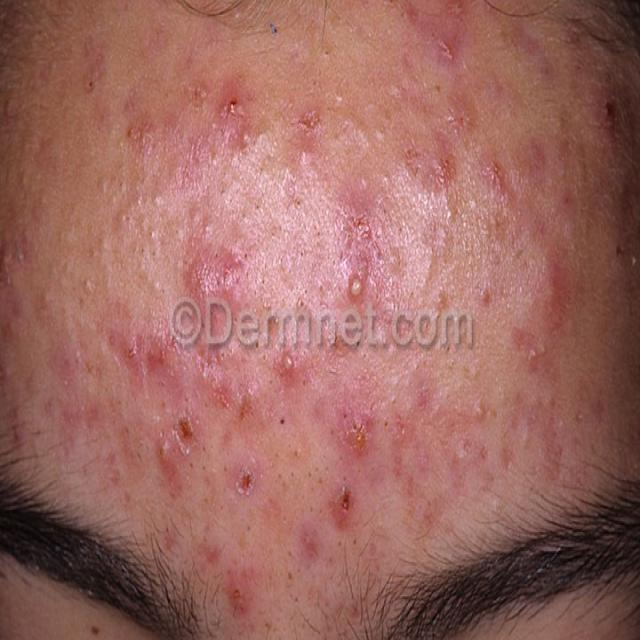Acne: (186, 245, 242, 300), (339, 191, 375, 263), (125, 110, 158, 160), (82, 34, 107, 96), (425, 142, 457, 188), (345, 412, 374, 458), (331, 479, 355, 528), (432, 31, 460, 70), (228, 569, 251, 616), (233, 462, 258, 499), (298, 522, 320, 561), (211, 377, 234, 413), (220, 90, 243, 124), (122, 329, 142, 368), (484, 156, 506, 191), (298, 106, 323, 136), (7, 410, 25, 450), (0, 238, 14, 288), (278, 346, 298, 380), (526, 340, 550, 367), (177, 412, 197, 444), (347, 270, 365, 302), (237, 123, 256, 152), (154, 434, 172, 464), (470, 396, 488, 426), (294, 140, 312, 168)
